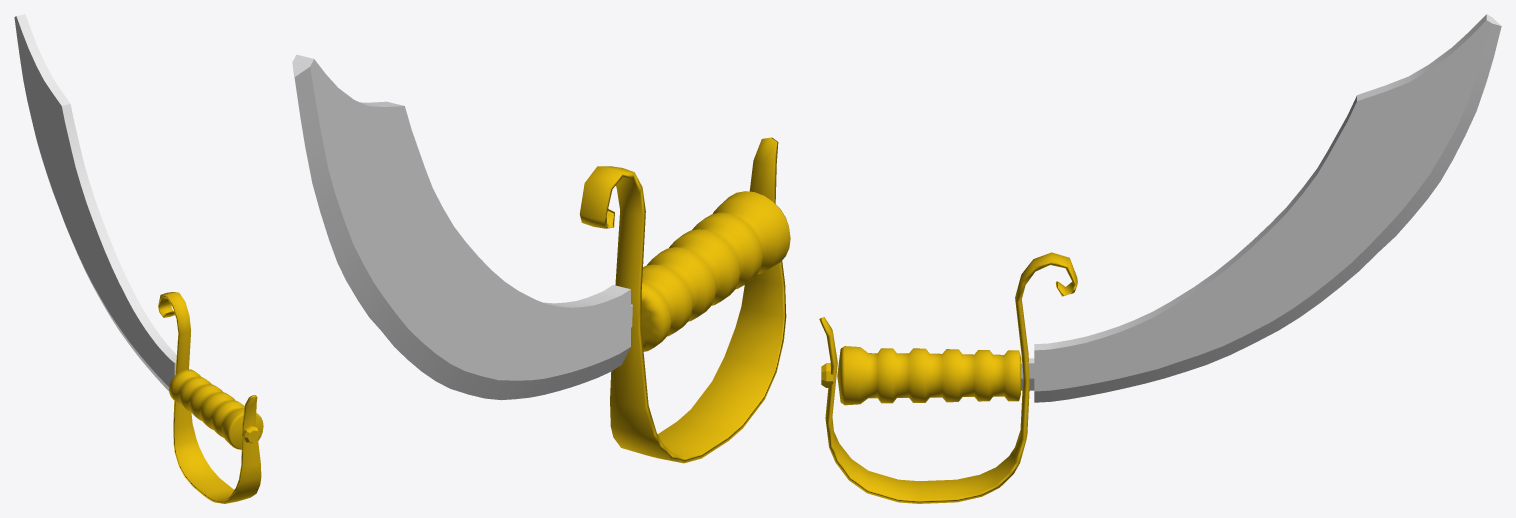
The model's file is Pirate_sword.fbx.
3 views of the same model, side by side, from view 1: azimuth 30°, elevation 25°; view 2: azimuth 150°, elevation 25°; view 3: azimuth 270°, elevation 25° (orthographic). The views are drawn at different scales.
Visible parts, largest first — view 1: Knife, Handle_01, Handle; view 2: Knife, Handle_01, Handle; view 3: Knife, Handle, Handle_01.
Part boxes in pixels (<box>): Knife: <box>14,14,176,391</box>; Handle_01: <box>158,292,261,503</box>; Handle: <box>169,369,263,449</box>; Knife: <box>292,54,632,400</box>; Handle_01: <box>579,137,786,463</box>; Handle: <box>641,191,790,351</box>; Knife: <box>1020,14,1501,402</box>; Handle: <box>837,346,1020,405</box>; Handle_01: <box>819,252,1077,503</box>.
Bounding box in the file's own units: 2.65 × 23.53 × 30.4.
